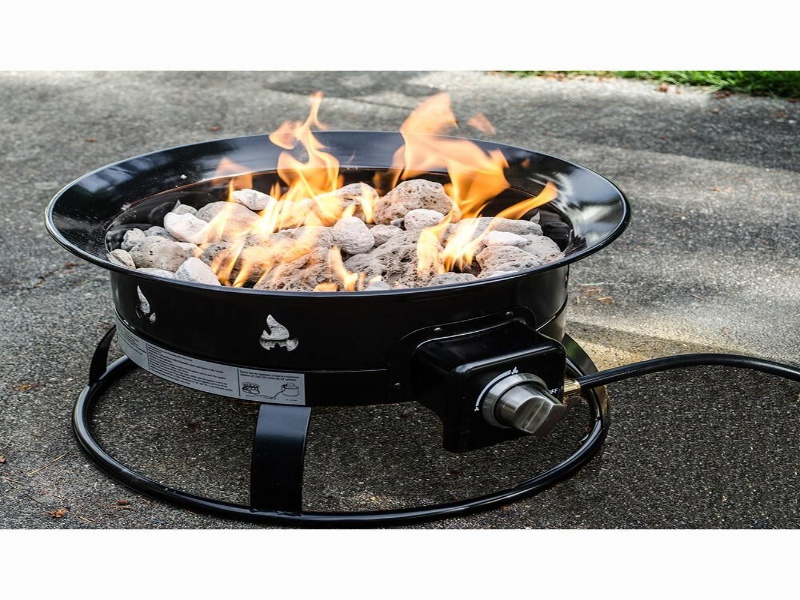fire: (159, 85, 558, 294)
